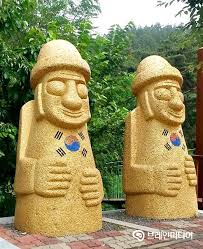Stone Statue: (9, 34, 110, 241), (116, 49, 203, 224)
